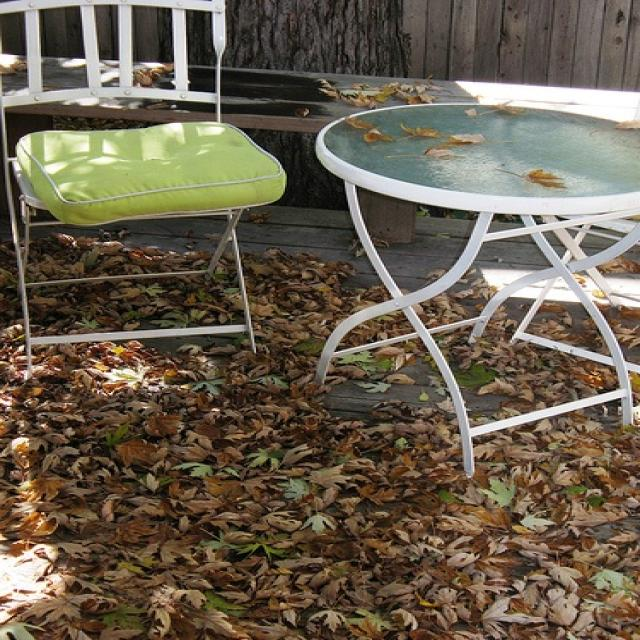chair: (0, 1, 261, 362)
